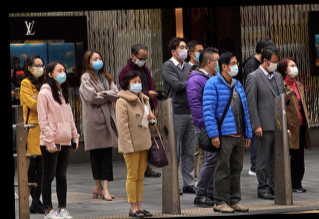with_mask: (30, 61, 45, 78), (53, 67, 67, 84), (90, 55, 104, 71), (129, 78, 143, 94), (175, 44, 189, 60), (227, 59, 239, 77), (286, 62, 299, 77), (266, 58, 279, 72), (133, 55, 147, 67), (211, 55, 220, 72)
